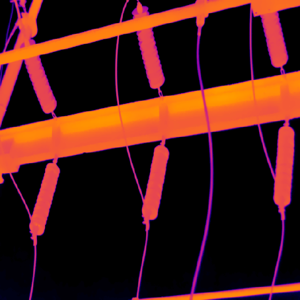insulator: (21, 45, 57, 115), (28, 160, 60, 235), (132, 10, 164, 83), (140, 142, 168, 219), (272, 123, 294, 206), (260, 9, 286, 64)
